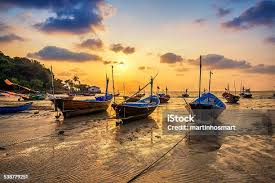boat: (50, 69, 113, 120), (185, 55, 226, 126), (111, 74, 159, 129), (1, 93, 36, 113), (154, 84, 174, 103), (223, 89, 239, 106), (240, 82, 252, 99), (179, 87, 190, 98)
